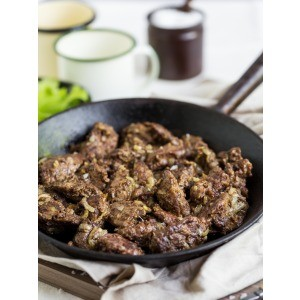liver_brain food: (53, 120, 200, 250)
